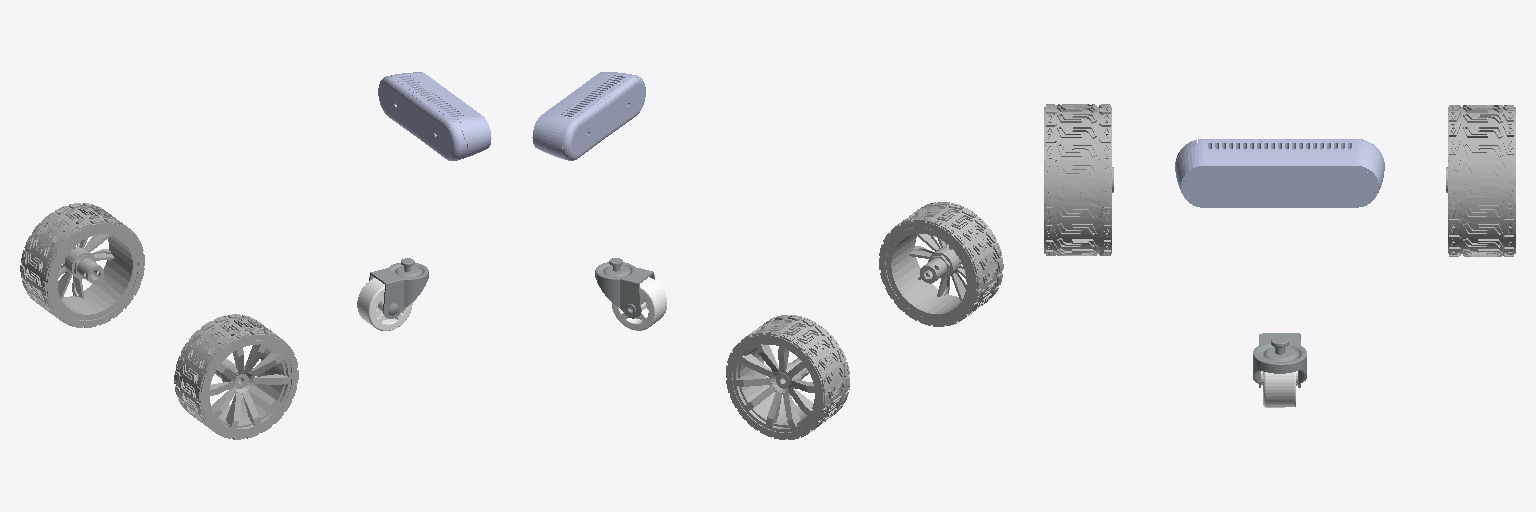
robot.urdf — ros2_bot:
<?xml version="1.0" ?>
<!-- This URDF was automatically created by SolidWorks to URDF Exporter! Originally created by [author] ([email redacted]) 
     Commit Version: 1.5.1-0-g916b5db  Build Version: 1.5.7152.31018
     For more information, please see http://wiki.ros.org/sw_urdf_exporter -->
<robot
  name="ros2_bot">
  <link
    name="base_link">
    <inertial>
      <origin
        xyz="0.0019935805044973 0.000333670681230025 -0.00811733174741469"
        rpy="0 0 0" />
      <mass
        value="0.369143188982664" />
      <inertia
        ixx="0.000304133658216796"
        ixy="-8.81084700296521E-09"
        ixz="2.14153041155401E-08"
        iyy="0.000747479350329666"
        iyz="-4.73118599740384E-10"
        izz="0.00103033015392302" />
    </inertial>
    <visual>
      <origin
        xyz="0 0 0"
        rpy="0 0 0" />
      <geometry>
        <mesh
          filename="package://ros2_bot/meshes/base_link.STL" />
      </geometry>
      <material
        name="">
        <color
          rgba="0.752941176470588 0.752941176470588 0.752941176470588 1" />
      </material>
    </visual>
    <collision>
      <origin
        xyz="0 0 0"
        rpy="0 0 0" />
      <geometry>
        <mesh
          filename="package://ros2_bot/meshes/base_link.STL" />
      </geometry>
    </collision>
  </link>
  <gazebo reference="base_link">
    <mu1>200</mu1>
    <mu2>200</mu2>
    <kp>1000000</kp>
    <kd>1</kd>
    <material>Gazebo/Pioneer2Body</material>
  </gazebo>
  <link
    name="left_wheel_link">
    <inertial>
      <origin
        xyz="0.000441438087349283 -8.92755449260485E-05 0.00445900766244345"
        rpy="0 0 0" />
      <mass
        value="0.0790308218125707" />
      <inertia
        ixx="2.82165613928051E-05"
        ixy="-4.22436916213725E-09"
        ixz="-2.79790374684897E-10"
        iyy="2.81844841451266E-05"
        iyz="-4.0103399023875E-11"
        izz="4.60803895919818E-05" />
    </inertial>
    <visual>
      <origin
        xyz="0 0 0"
        rpy="0 0 0" />
      <geometry>
        <mesh
          filename="package://ros2_bot/meshes/left_wheel_link.STL" />
      </geometry>
      <material
        name="">
        <color
          rgba="0.752941176470588 0.752941176470588 0.752941176470588 1" />
      </material>
    </visual>
    <collision>
      <origin
        xyz="0 0 0"
        rpy="0 0 0" />
      <geometry>
        <mesh
          filename="package://ros2_bot/meshes/left_wheel_link.STL" />
      </geometry>
    </collision>
  </link>
  <gazebo reference="left_wheel_link">
    <mu1>200</mu1>
    <mu2>200</mu2>
    <kp>1000000</kp>
    <kd>1</kd>
    <material>Gazebo/Gray</material>
  </gazebo>
  <joint
    name="left_wheel_joint"
    type="continuous">
    <origin
      xyz="-0.0710151540662201 -0.0910000000000003 -0.0417600000000003"
      rpy="-1.5707963267949 0 0" />
    <parent
      link="base_link" />
    <child
      link="left_wheel_link" />
    <axis
      xyz="-0.000109890109227877 0 0.999999993962082" />
  </joint>
  <link
    name="right_wheel_link">
    <inertial>
      <origin
        xyz="0.000222958641083681 0.000391314646544905 -0.00445900765995444"
        rpy="0 0 0" />
      <mass
        value="0.0790308218254437" />
      <inertia
        ixx="2.81941641583814E-05"
        ixy="1.53183153539912E-08"
        ixz="2.14167588034319E-10"
        iyy="2.82068813849732E-05"
        iyz="1.84453148031006E-10"
        izz="4.60803895935091E-05" />
    </inertial>
    <visual>
      <origin
        xyz="0 0 0"
        rpy="0 0 0" />
      <geometry>
        <mesh
          filename="package://ros2_bot/meshes/right_wheel_link.STL" />
      </geometry>
      <material
        name="">
        <color
          rgba="0.752941176470588 0.752941176470588 0.752941176470588 1" />
      </material>
    </visual>
    <collision>
      <origin
        xyz="0 0 0"
        rpy="0 0 0" />
      <geometry>
        <mesh
          filename="package://ros2_bot/meshes/right_wheel_link.STL" />
      </geometry>
    </collision>
  </link>
  <gazebo reference="right_wheel_link">
    <mu1>200</mu1>
    <mu2>200</mu2>
    <kp>1000000</kp>
    <kd>1</kd>
    <material>Gazebo/Gray</material>
  </gazebo>
  <joint
    name="right_wheel_joint"
    type="continuous">
    <origin
      xyz="-0.0710351540662204 0.0910000000000001 -0.0417600000000005"
      rpy="-1.5707963267949 0 0" />
    <parent
      link="base_link" />
    <child
      link="right_wheel_link" />
    <axis
      xyz="-0.000109890109227877 0 0.999999993962082" />
  </joint>
  <link
    name="base_caster_link">
    <inertial>
      <origin
        xyz="-0.0065484535252593 -0.00020809110351333 -0.00577858701291478"
        rpy="0 0 0" />
      <mass
        value="0.0161823654839401" />
      <inertia
        ixx="1.28095639737182E-06"
        ixy="-9.77267564468164E-10"
        ixz="-2.48052318082804E-07"
        iyy="1.34725618564923E-06"
        iyz="-2.45566862777381E-09"
        izz="1.71845940906856E-06" />
    </inertial>
    <visual>
      <origin
        xyz="0 0 0"
        rpy="0 0 0" />
      <geometry>
        <mesh
          filename="package://ros2_bot/meshes/base_caster_link.STL" />
      </geometry>
      <material
        name="">
        <color
          rgba="0.63921568627451 0.666666666666667 0.67843137254902 1" />
      </material>
    </visual>
    <collision>
      <origin
        xyz="0 0 0"
        rpy="0 0 0" />
      <geometry>
        <mesh
          filename="package://ros2_bot/meshes/base_caster_link.STL" />
      </geometry>
    </collision>
  </link>
  <gazebo reference="base_caster_link">
    <mu1>200</mu1>
    <mu2>200</mu2>
    <kp>1000000</kp>
    <kd>1</kd>
    <material>Gazebo/Gray</material>
  </gazebo>
  <joint
    name="base_caster_joint"
    type="continuous">
    <origin
      xyz="0.0909748459337795 0 -0.0484999999999999"
      rpy="0 0 0" />
    <parent
      link="base_link" />
    <child
      link="base_caster_link" />
    <axis
      xyz="0 0 -1" />
  </joint>
  <link
    name="wheel_caster_link">
    <inertial>
      <origin
        xyz="-2.62037058718079E-11 2.77710066054482E-09 -1.11022302462516E-16"
        rpy="0 0 0" />
      <mass
        value="0.00828739992319073" />
      <inertia
        ixx="6.39299912774582E-07"
        ixy="-3.50834634007131E-09"
        ixz="5.17881382745752E-22"
        iyy="1.01108533248037E-06"
        iyz="-2.70694466684209E-22"
        izz="6.39266809275768E-07" />
    </inertial>
    <visual>
      <origin
        xyz="0 0 0"
        rpy="0 0 0" />
      <geometry>
        <mesh
          filename="package://ros2_bot/meshes/wheel_caster_link.STL" />
      </geometry>
      <material
        name="">
        <color
          rgba="1 1 1 1" />
      </material>
    </visual>
    <collision>
      <origin
        xyz="0 0 0"
        rpy="0 0 0" />
      <geometry>
        <mesh
          filename="package://ros2_bot/meshes/wheel_caster_link.STL" />
      </geometry>
    </collision>
  </link>
  <gazebo reference="wheel_caster_link">
    <mu1>200</mu1>
    <mu2>200</mu2>
    <kp>1000000</kp>
    <kd>1</kd>
    <material>Gazebo/Gray</material>
  </gazebo>
  <joint
    name="wheel_caster_joint"
    type="continuous">
    <origin
      xyz="-0.0150142056791568 -0.000141668664297767 -0.0164601469749998"
      rpy="0 0 0" />
    <parent
      link="base_caster_link" />
    <child
      link="wheel_caster_link" />
    <axis
      xyz="-0.0094352216341657 0.999955487305667 0" />
  </joint>
  <link
    name="camera_link">
    <inertial>
      <origin
        xyz="-0.00425419155483209 -0.00164664450896773 -0.00183665109978204"
        rpy="0 0 0" />
      <mass
        value="0.0447468642477995" />
      <inertia
        ixx="2.72781599481406E-05"
        ixy="2.44504296442237E-07"
        ixz="-1.09534991124129E-09"
        iyy="3.94486671469707E-06"
        iyz="-3.09966938459706E-09"
        izz="2.73626707372897E-05" />
    </inertial>
    <visual>
      <origin
        xyz="0 0 0"
        rpy="0 0 0" />
      <geometry>
        <mesh
          filename="package://ros2_bot/meshes/camera_link.STL" />
      </geometry>
      <material
        name="">
        <color
          rgba="0.792156862745098 0.819607843137255 0.933333333333333 1" />
      </material>
    </visual>
    <collision>
      <origin
        xyz="0 0 0"
        rpy="0 0 0" />
      <geometry>
        <mesh
          filename="package://ros2_bot/meshes/camera_link.STL" />
      </geometry>
    </collision>
  </link>
  <joint
    name="camera_joint"
    type="fixed">
    <origin
      xyz="0.112129156912968 0.00189215941669696 0.046276321689579"
      rpy="0 0 0" />
    <parent
      link="base_link" />
    <child
      link="camera_link" />
    <axis
      xyz="0 0 0" />
  </joint>
  <joint name="camera_optical_joint" type="fixed">
        <parent link="camera_link"/>
        <child link="camera_link_optical"/>
        <origin xyz="0 0 0" rpy="-1.57 0 -1.57"/>
    </joint>

    <link name="camera_link_optical"></link>
  <gazebo>
    <plugin name="two_wheeled_robot_diff_drive" filename="libgazebo_ros_diff_drive.so">
 
      <update_rate>100</update_rate>
      
      <!-- wheels -->
      <left_joint>left_wheel_joint</left_joint>
      <right_joint>right_wheel_joint</right_joint>
      <wheel_caster_joint>wheel_caster_joint</wheel_caster_joint>
      <!-- kinematics -->
      <wheel_separation>0.1635</wheel_separation>
      <wheel_diameter>0.06</wheel_diameter>
 
      <!-- limits -->
      <max_wheel_torque>20</max_wheel_torque>
      <max_wheel_acceleration>20.0</max_wheel_acceleration>
 
      <!-- Receive velocity commands on this ROS topic -->
      <command_topic>cmd_vel</command_topic>
 
      <!-- output -->
      <!-- When false, publish no wheel odometry data to a ROS topic -->
      <publish_odom>true</publish_odom>
 
      <!-- When true, publish coordinate transform from odom to base_footprint -->
      <!-- I usually use the robot_localization package to publish this transform -->  
      <publish_odom_tf>true</publish_odom_tf>
     
      <!-- When true, publish coordinate transform from base_link to the wheels -->
      <!-- The robot_state_publisher package is often used to publish this transform -->  
      <publish_wheel_tf>true</publish_wheel_tf>
 
      <odometry_topic>odom</odometry_topic>
      <odometry_frame>odom_link</odometry_frame>
      <robot_base_frame>base_link</robot_base_frame>
 
      <odometry_source>1</odometry_source>
      <ros>
        <remapping>odom:=wheel/odometry</remapping>
      </ros>
    </plugin>
  </gazebo>

  <gazebo>
    <plugin name="gazebo_ros_joint_state_publisher"
        filename="libgazebo_ros_joint_state_publisher.so">
        <update_rate>100</update_rate>
        <joint_name>base_caster_joint</joint_name>
        <joint_name>wheel_caster_joint</joint_name>
    </plugin>
  </gazebo>
  <gazebo reference="camera_link">
        <material>Gazebo/Gray</material>

        <sensor name="camera" type="depth">
            <pose> 0 0 0 0 0 0 </pose>
            <visualize>true</visualize>
            <update_rate>10</update_rate>
            <camera>
                <horizontal_fov>1.089</horizontal_fov>
                <image>
                    <format>B8G8R8</format>
                    <width>640</width>
                    <height>480</height>
                </image>
                <clip>
                    <near>0.05</near>
                    <far>8.0</far>
                </clip>
            </camera>
            <plugin name="camera_controller" filename="libgazebo_ros_camera.so">
                <frame_name>camera_link_optical</frame_name>
                <min_depth>0.1</min_depth>
                <max_depth>100.0</max_depth>
            </plugin>
        </sensor>
    </gazebo>
</robot>

--- Facts derived from the render (not from the file) ---
The picture shows the robot from 3 angles, left to right: view 1: azimuth 30°, elevation 25°; view 2: azimuth 150°, elevation 25°; view 3: azimuth 270°, elevation 25°; orthographic projection.
Model ros2_bot with 7 links and 6 joints (4 continuous, 2 fixed), rooted at base_link, posed every joint at zero.
Links seen in each view (by area): view 1: right_wheel_link, left_wheel_link, camera_link, base_caster_link, wheel_caster_link; view 2: right_wheel_link, left_wheel_link, camera_link, base_caster_link, wheel_caster_link; view 3: camera_link, right_wheel_link, left_wheel_link, base_caster_link, wheel_caster_link.
Link boxes in pixels (x1,y1,x2,y2): right_wheel_link: (20, 203, 144, 327); left_wheel_link: (174, 314, 298, 439); camera_link: (378, 72, 491, 160); base_caster_link: (369, 258, 428, 318); wheel_caster_link: (357, 278, 412, 330); right_wheel_link: (726, 315, 849, 439); left_wheel_link: (879, 202, 1003, 326); camera_link: (532, 72, 645, 160); base_caster_link: (595, 258, 654, 318); wheel_caster_link: (612, 277, 666, 330); camera_link: (1175, 139, 1384, 207); right_wheel_link: (1446, 105, 1515, 256); left_wheel_link: (1044, 104, 1113, 255); base_caster_link: (1253, 333, 1306, 387); wheel_caster_link: (1261, 371, 1297, 407).
Size in the robot's own frame: 0.2243 by 0.2021 by 0.1365 metres.
5 mesh visuals loaded from 6 distinct referenced files (5 binary STL); not drawn: 1 (reference not matched to a file when rendering).
